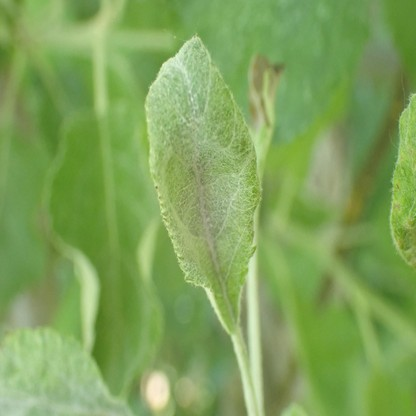powdery_mildew: (145, 35, 261, 289), (389, 93, 416, 267)
